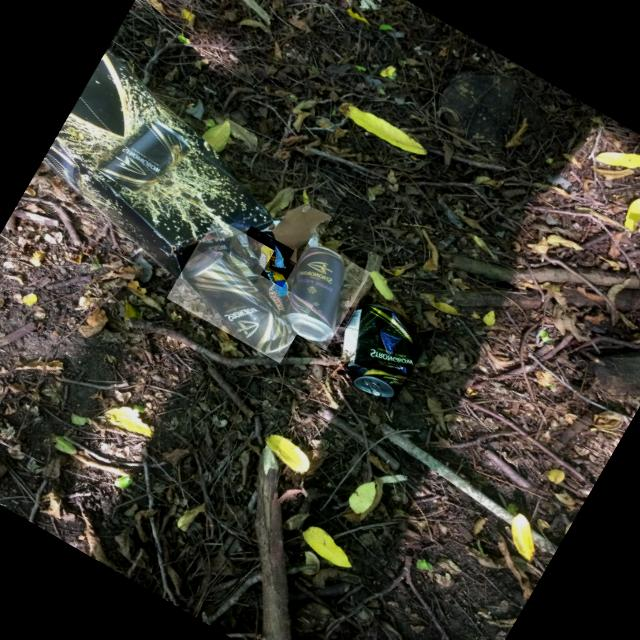Drink can: (185, 250, 293, 354), (340, 304, 414, 397), (284, 246, 346, 342), (201, 235, 261, 280)
Other Carton: (43, 51, 330, 296)
Other plastic: (258, 246, 288, 316), (245, 233, 285, 268)
Pop tab: (367, 382, 381, 397)
